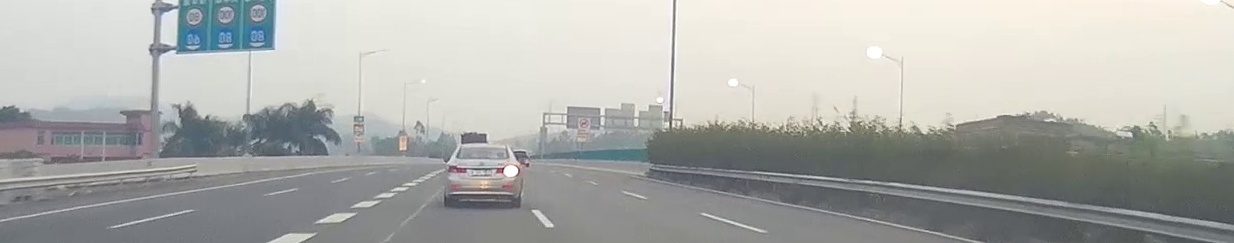L_light: (447, 165, 468, 173)
R_light: (496, 167, 518, 174)
T_light: (479, 145, 490, 148)
day-right: (445, 143, 522, 207)
